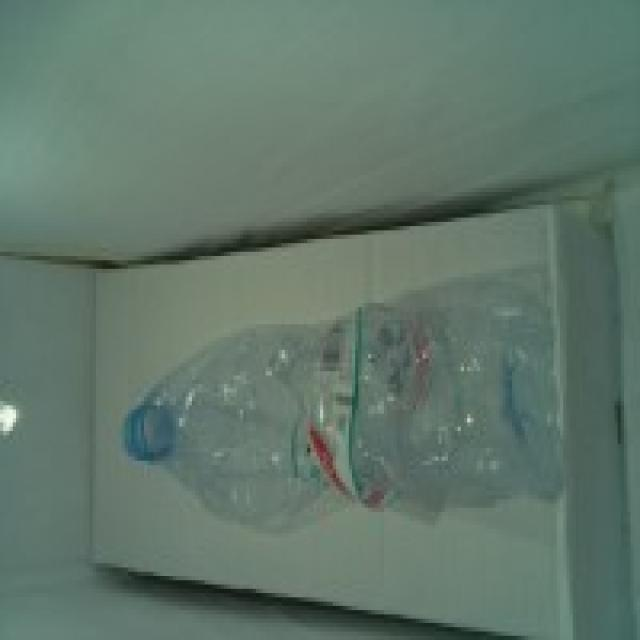Anorganik: (122, 282, 560, 508)
